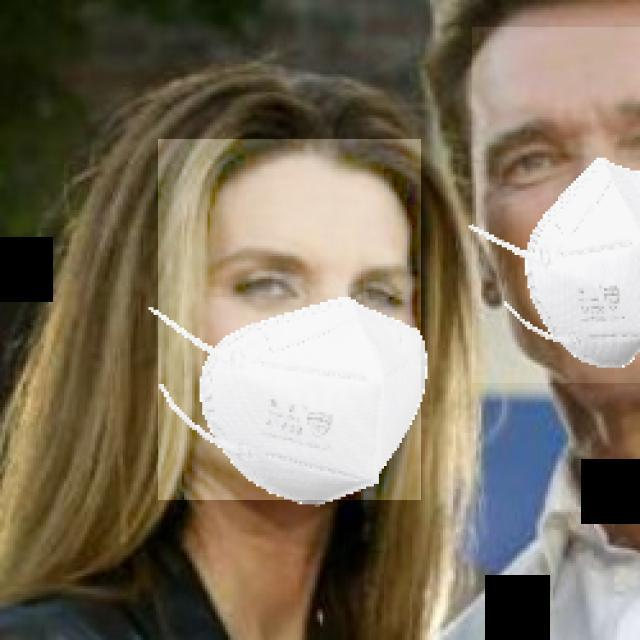kn95: (158, 139, 421, 500), (472, 28, 640, 384)
